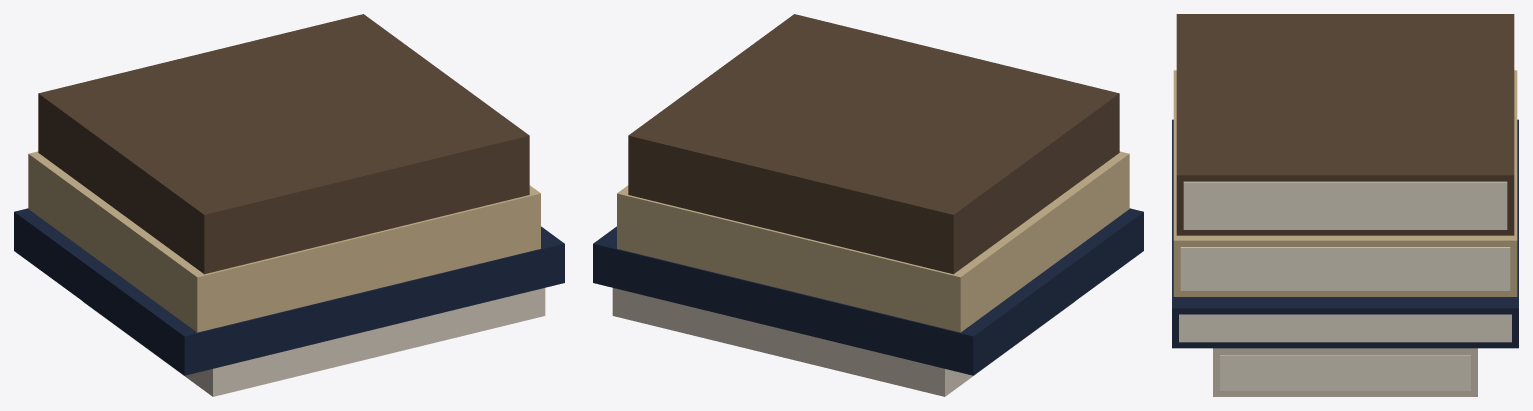
File: ATL-BKS-std.glb
3 views of the same model, side by side, from view 1: azimuth 30°, elevation 25°; view 2: azimuth 150°, elevation 25°; view 3: azimuth 270°, elevation 25° (orthographic).
Visible parts, largest first — view 1: ATL-BKS-std; view 2: ATL-BKS-std; view 3: ATL-BKS-std.
Boxes of the visible parts, x1=… form: ATL-BKS-std: x1=14, y1=14, x2=564, y2=396; ATL-BKS-std: x1=593, y1=14, x2=1143, y2=396; ATL-BKS-std: x1=1172, y1=14, x2=1518, y2=396.
Size of the model in its own units: 0.2558 by 0.1291 by 0.198.
